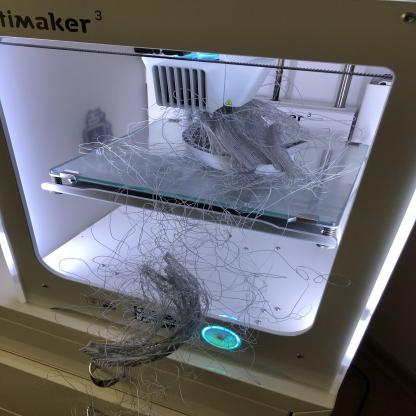fail: (55, 219, 284, 376), (89, 127, 326, 217)
